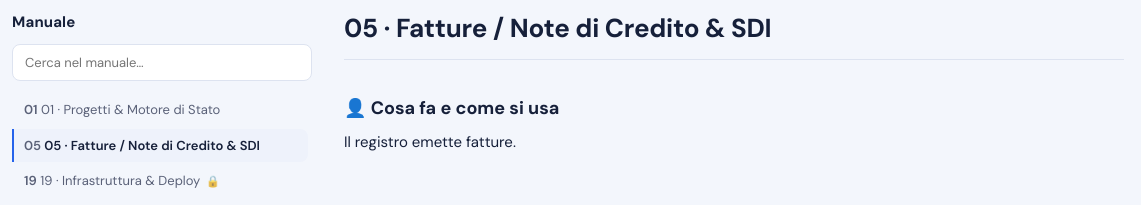
AiutoPage — la ricerca › senza risultati lo dice, invece di mostrare l’elenco intero
The width and height of the screenshot is (1141, 205).
Type "qwertyuiop" into the search field labelled "Cerca nel manuale…" at (162, 62), box [12,44,312,81]
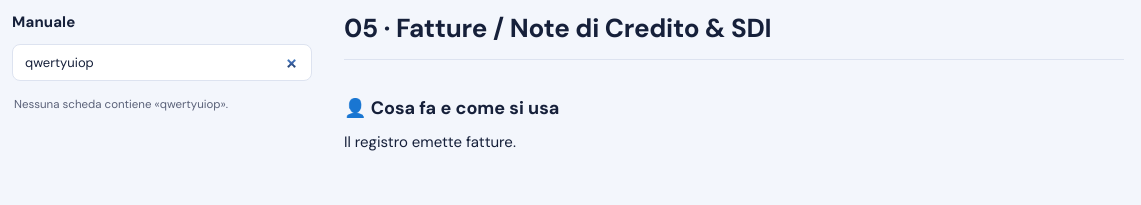
Result: the text "Nessuna scheda contiene «qwertyuiop»." is shown at [14,97,228,112]
Result: the button "01 01 · Progetti & Motore di Stato" is gone
